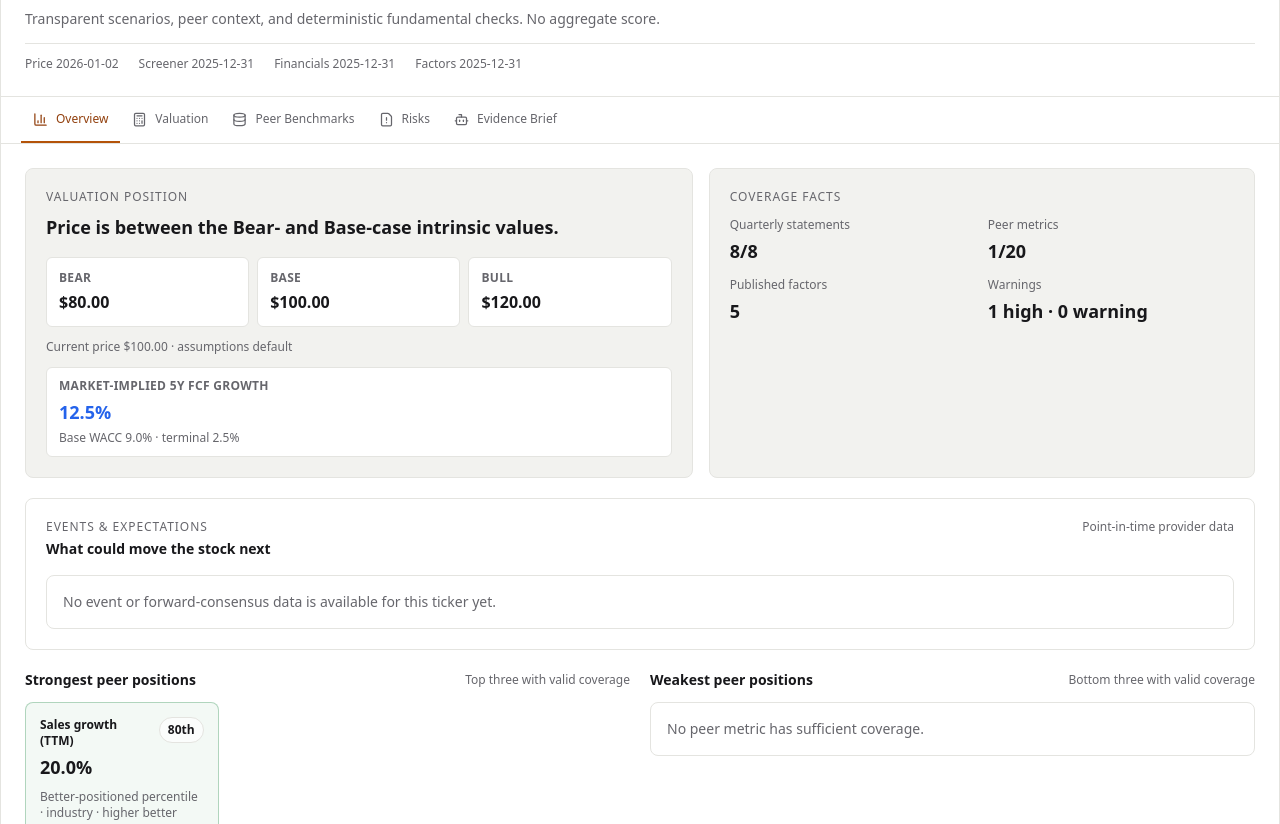
Test: DecisionCockpit › shows a bounded error when reset succeeds but default recalculation fails
Click the button "Valuation".
click(170, 120)  # box [120, 97, 220, 143]
(page scrolled)
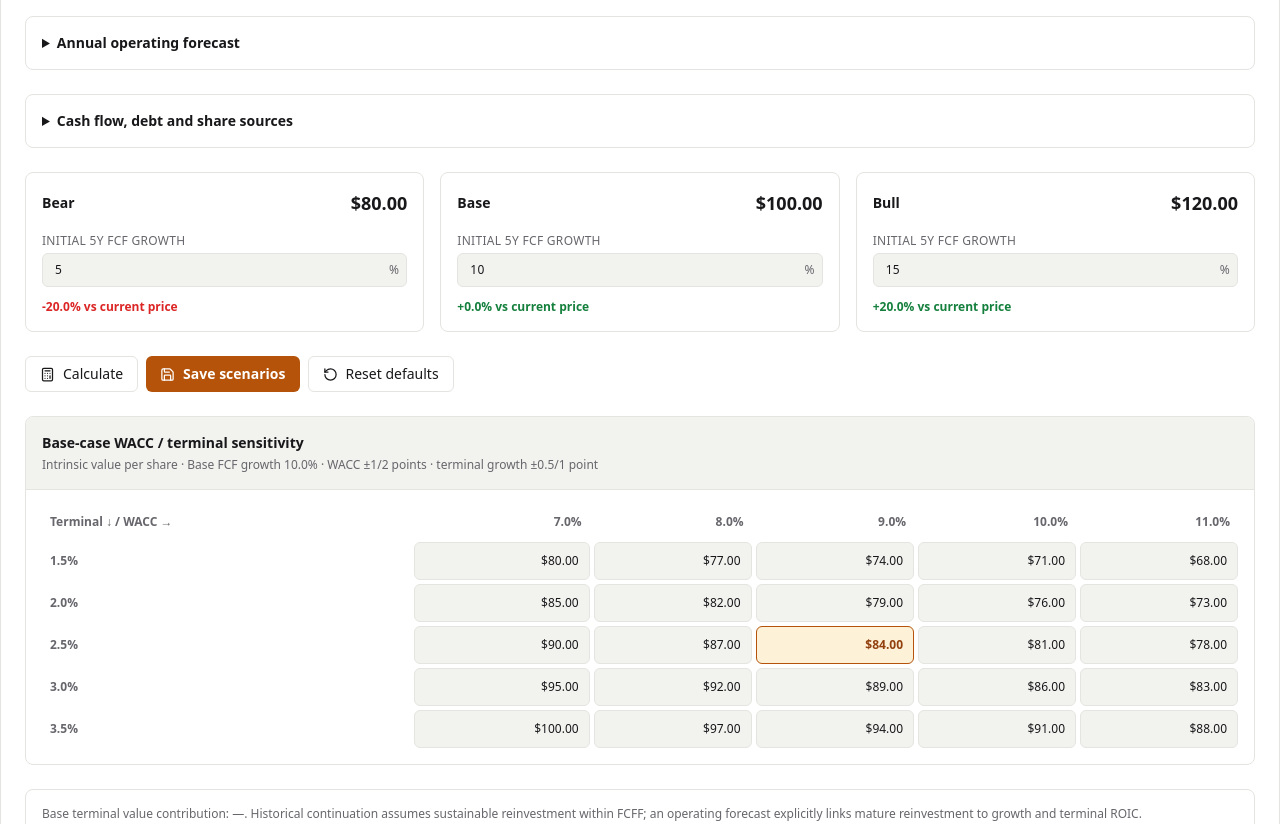
Click the button "Reset defaults".
click(381, 374)  # box [308, 356, 454, 392]
(page scrolled)
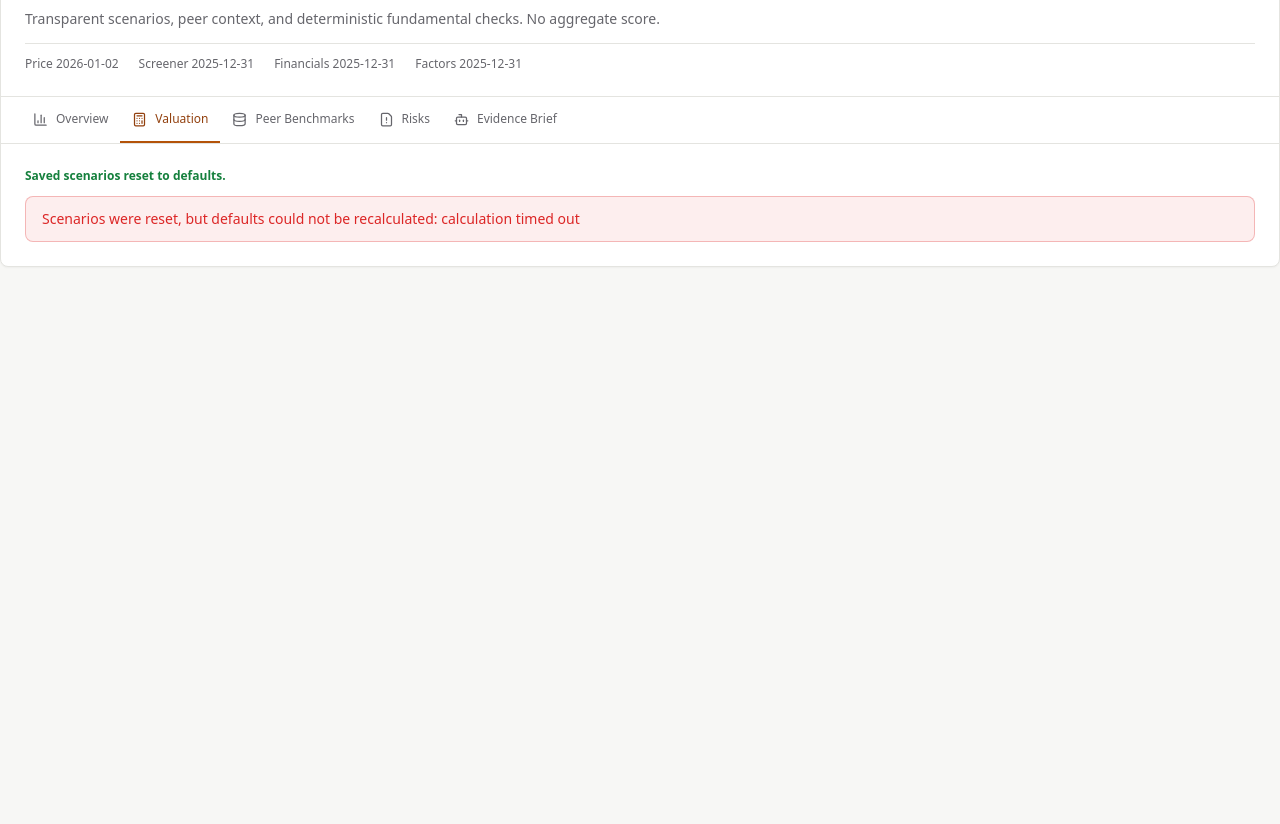
Now the message shows "Scenarios were reset, but defaults could not be recalculated: calculation timed out", box [42, 209, 580, 228]
Now the text "Saved scenarios reset to defaults." is shown, box [25, 167, 226, 184]
